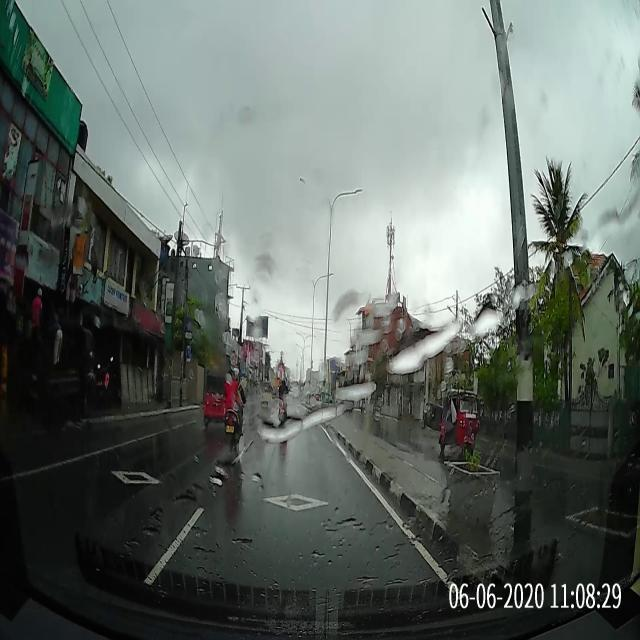diamond: (178, 471, 429, 552)
